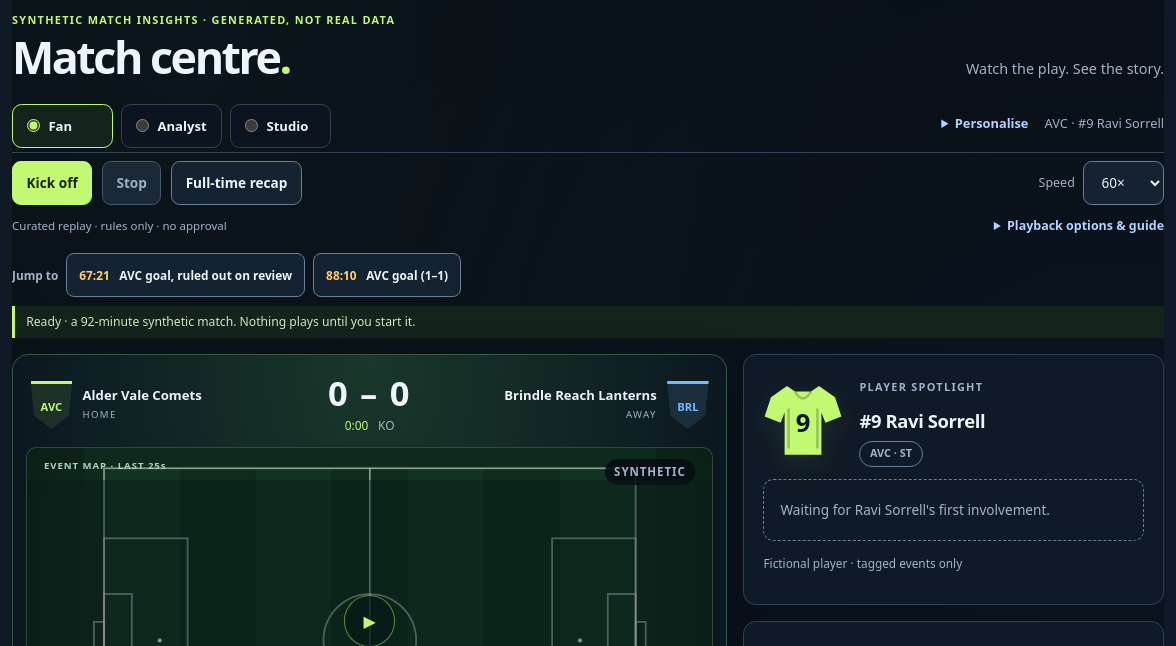
Test: MatchCentre › reports a failed stream rather than pretending to play and offers a replay
Expected: the element with test id "scorebug" is shown, [26, 368, 714, 447]
Click the button "Kick off" at (52,183), box [12, 161, 92, 205]
Wait 60 ms
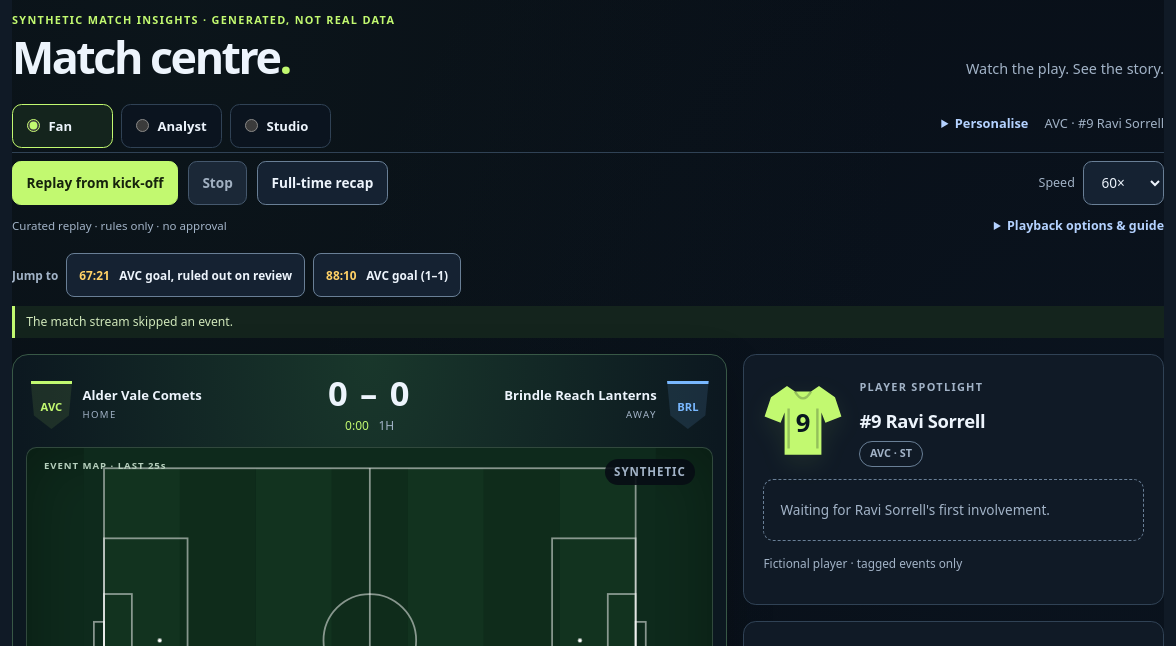
Expected: the button "Replay from kick-off" is enabled, [12, 161, 178, 205]
Expected: the message with test id "match-status" reads "The match stream skipped an event.", [26, 313, 233, 330]
